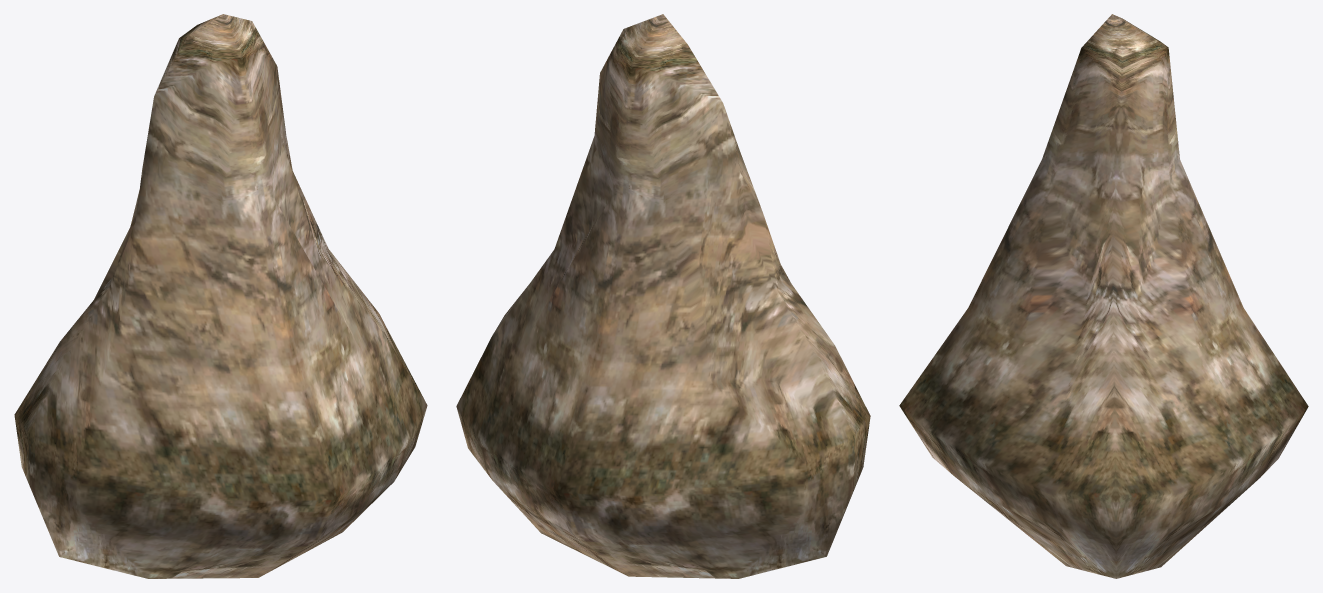
Rendered from thm_all_cave_stalagmite_a3_l0.fbx.
3 views of the same model, side by side, from view 1: azimuth 30°, elevation 25°; view 2: azimuth 150°, elevation 25°; view 3: azimuth 270°, elevation 25° (orthographic). The views are drawn at different scales.
Visible parts, largest first — view 1: mesh_node; view 2: mesh_node; view 3: mesh_node.
Boxes of the visible parts, x1,y1,x2,y2 form: mesh_node: [14, 14, 427, 578]; mesh_node: [456, 14, 870, 578]; mesh_node: [899, 14, 1308, 578].
Bounding box in the file's own units: 1.23 × 1.7 × 1.18.
